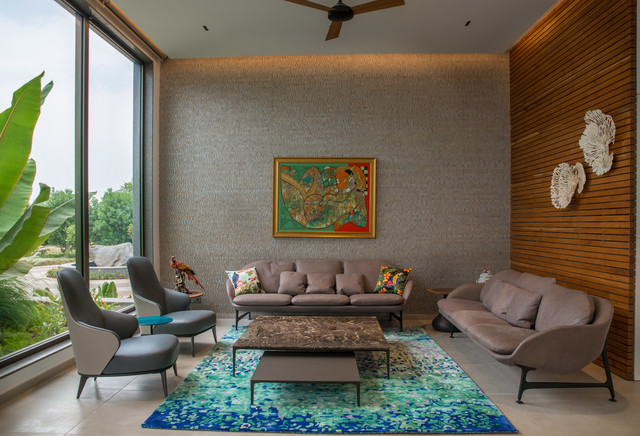chair: (435, 269, 619, 424), (54, 267, 184, 398), (224, 258, 414, 319), (123, 255, 220, 351)
